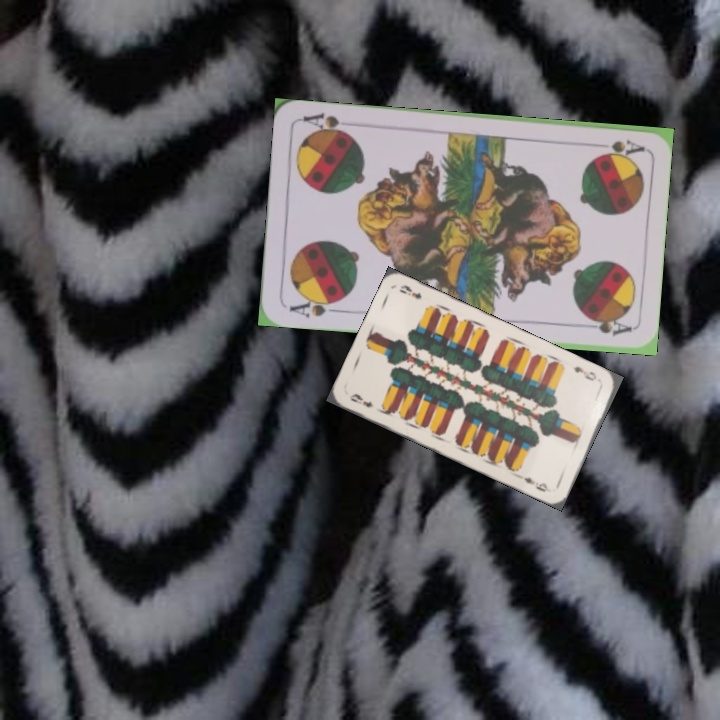E9: (569, 362, 599, 384), (345, 389, 376, 410)
SA: (285, 293, 344, 321), (587, 135, 646, 159)
